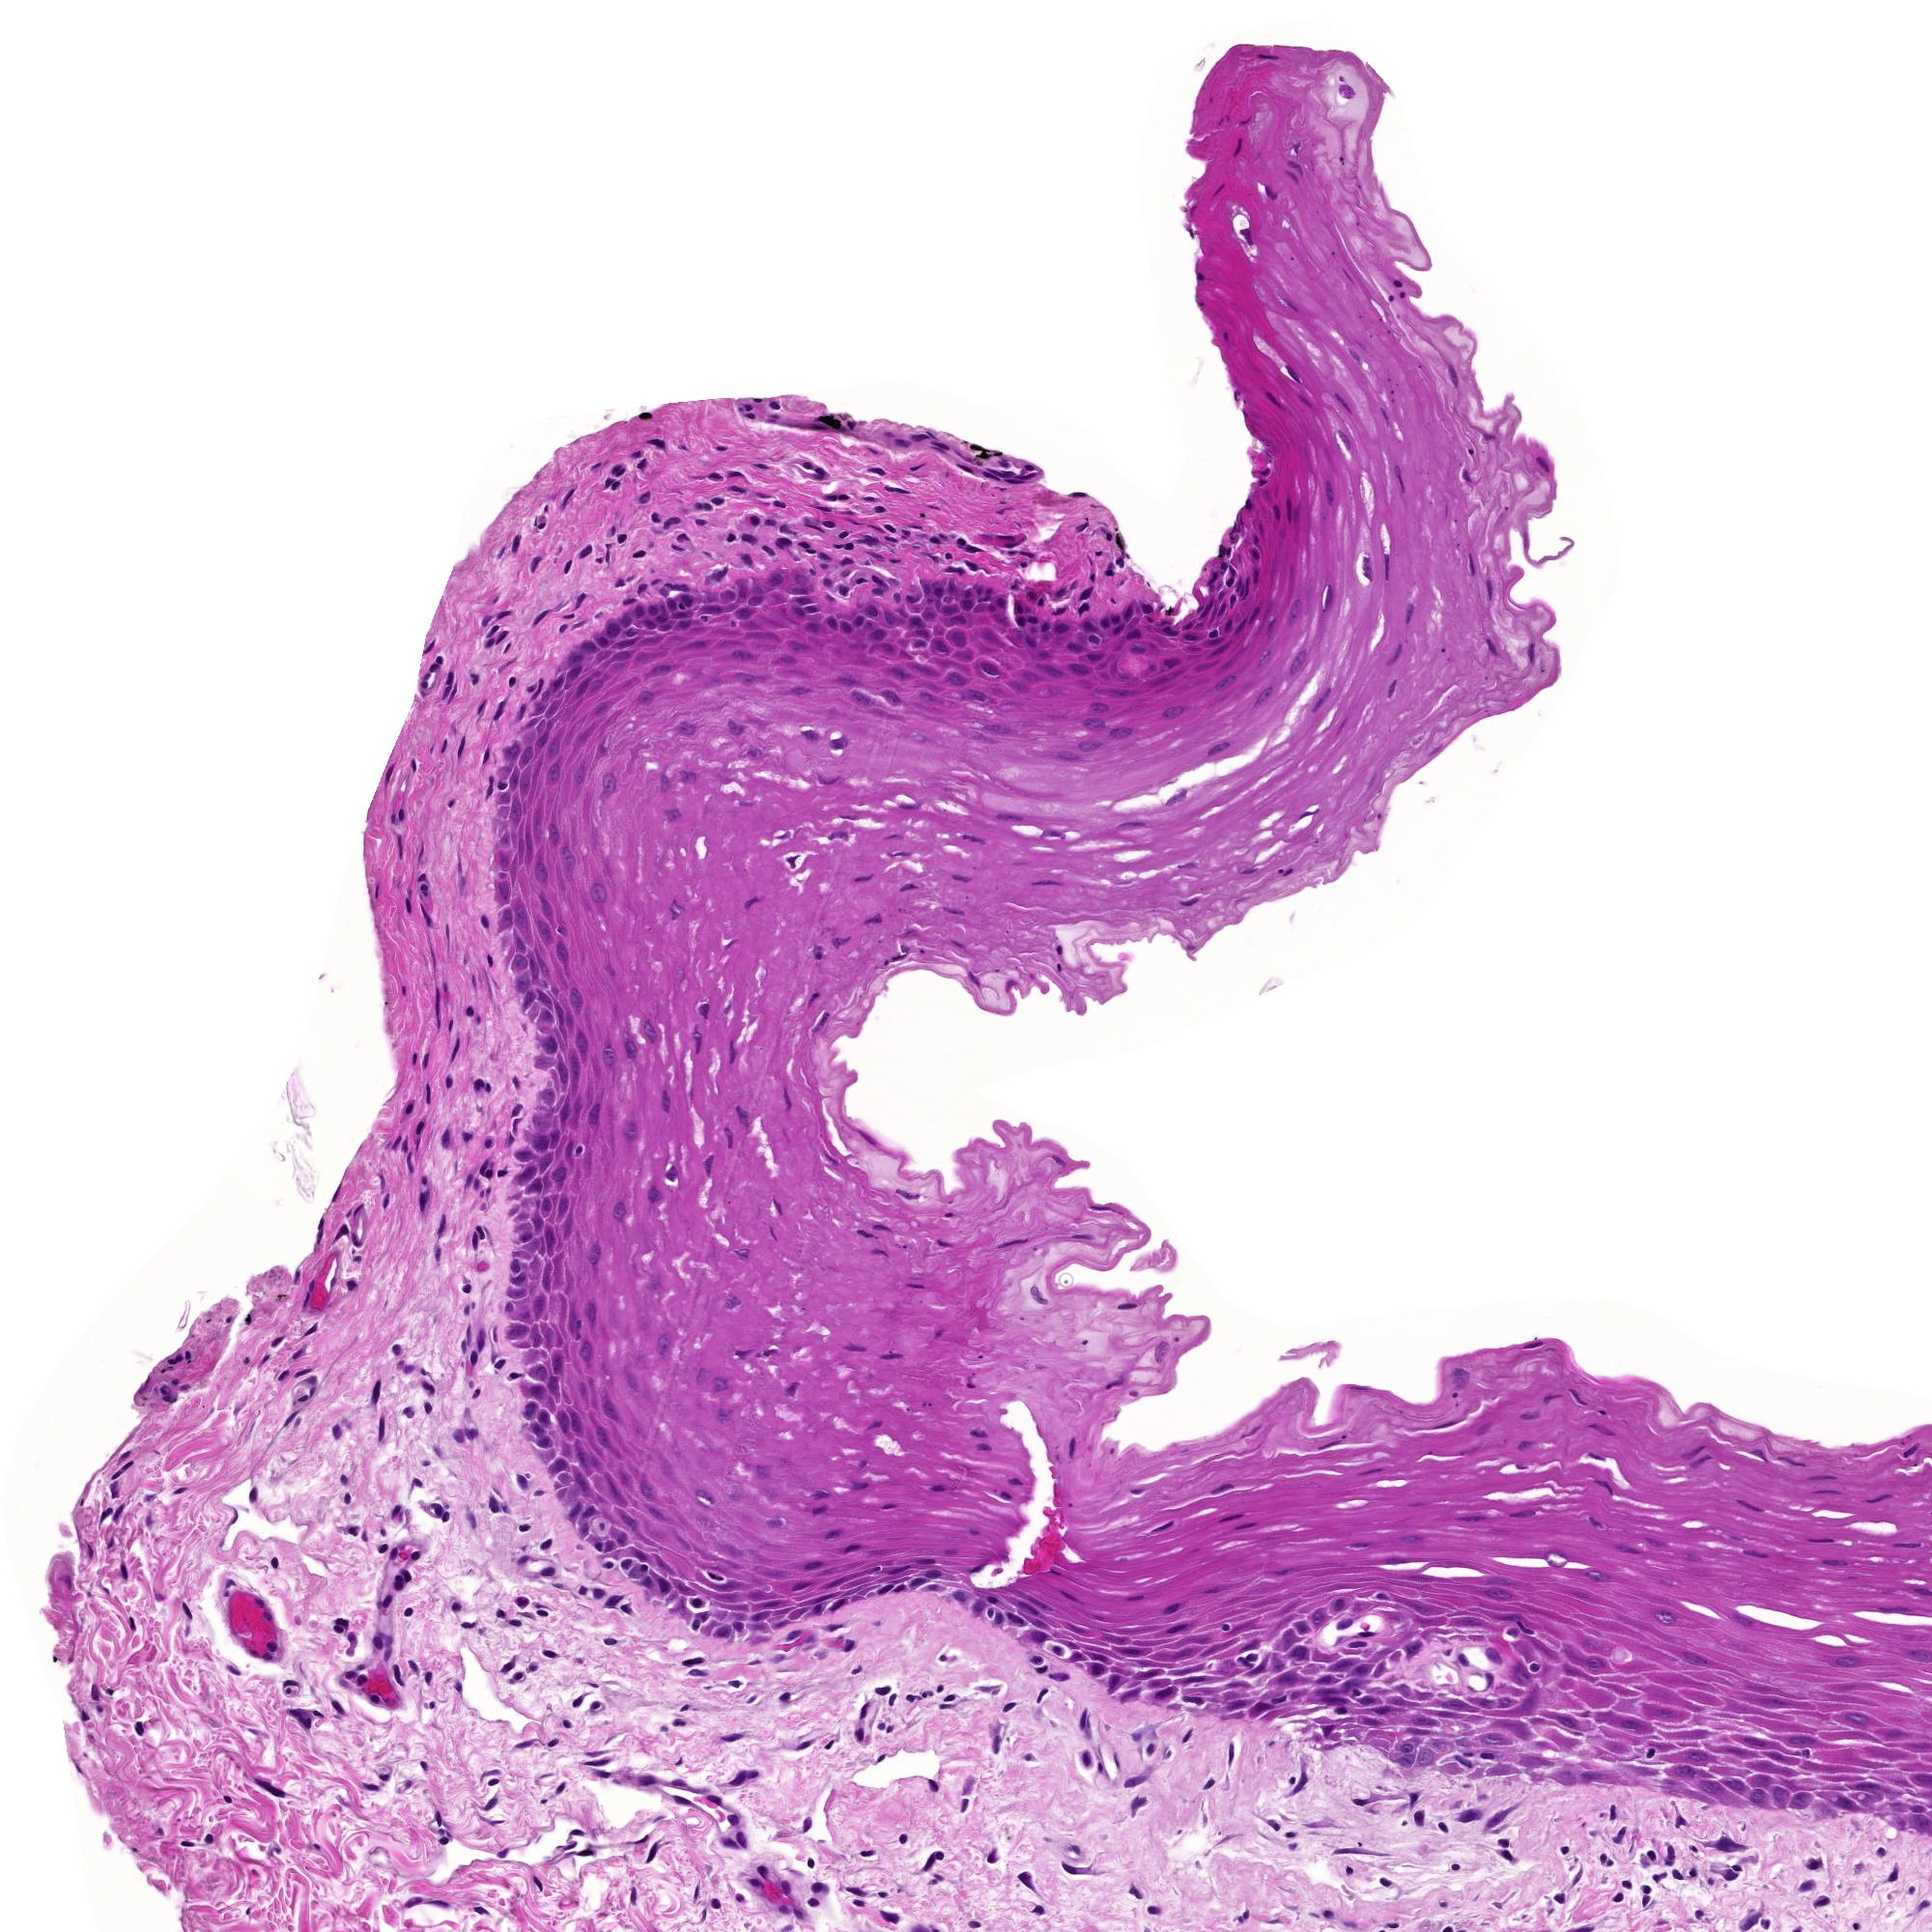epithelial: (893, 582, 927, 614), (653, 575, 685, 609), (883, 589, 916, 621), (605, 1522, 637, 1555), (1023, 1603, 1054, 1637), (359, 878, 391, 909), (446, 865, 478, 897), (127, 1373, 159, 1405), (920, 575, 952, 607), (658, 589, 690, 621), (540, 667, 571, 699), (941, 621, 973, 653), (862, 617, 893, 649), (497, 736, 529, 768), (856, 594, 888, 626), (649, 596, 681, 628), (582, 626, 614, 658), (487, 874, 518, 906), (648, 607, 679, 639), (646, 653, 678, 685), (725, 575, 757, 607), (669, 575, 701, 607), (501, 794, 533, 826), (904, 626, 936, 658), (529, 911, 561, 943), (663, 607, 695, 639), (501, 901, 533, 932), (784, 568, 816, 600), (531, 890, 563, 922), (911, 571, 943, 603), (885, 605, 916, 637), (872, 632, 904, 663), (741, 580, 773, 612), (685, 591, 717, 623), (607, 639, 639, 671), (736, 886, 768, 918), (552, 842, 584, 874), (908, 582, 939, 614), (635, 625, 667, 656), (568, 720, 600, 752), (518, 941, 550, 973), (736, 589, 768, 621), (603, 1194, 635, 1226), (550, 1407, 582, 1438), (527, 982, 559, 1014), (614, 1115, 646, 1146), (529, 1146, 561, 1178), (513, 1392, 545, 1424), (727, 1099, 759, 1131), (547, 1191, 579, 1223), (639, 1267, 671, 1299), (522, 1118, 554, 1150), (561, 1408, 593, 1440), (717, 1037, 748, 1069), (692, 1148, 724, 1180), (775, 1373, 807, 1405), (559, 1051, 591, 1083), (538, 1353, 570, 1385), (502, 1267, 534, 1299), (922, 1316, 954, 1348), (568, 1300, 600, 1332), (550, 1200, 582, 1231), (552, 1210, 584, 1242), (529, 1035, 561, 1067), (527, 1230, 559, 1261), (527, 1164, 559, 1196), (648, 1569, 679, 1601), (571, 1495, 603, 1527), (784, 1569, 816, 1601), (688, 1479, 720, 1511), (593, 1529, 625, 1560), (901, 1548, 932, 1580), (846, 1454, 878, 1486), (793, 1594, 824, 1626), (1231, 218, 1263, 249), (1223, 131, 1254, 163), (1185, 260, 1217, 292), (1327, 386, 1359, 418), (1276, 290, 1307, 322), (1382, 458, 1414, 490), (1203, 173, 1235, 205), (1215, 39, 1247, 71), (984, 586, 1016, 617), (1198, 621, 1230, 653), (1131, 591, 1162, 623), (970, 579, 1001, 610), (993, 589, 1024, 621), (1214, 564, 1246, 596), (1122, 633, 1154, 665), (1077, 623, 1109, 655), (1233, 488, 1265, 520), (962, 679, 994, 711), (1010, 584, 1042, 616), (973, 621, 1005, 653), (1037, 655, 1069, 686), (1187, 621, 1219, 653), (1315, 582, 1346, 614), (1208, 550, 1240, 582), (1240, 559, 1272, 591), (1000, 571, 1031, 603), (1315, 479, 1346, 511), (1200, 573, 1231, 605), (993, 800, 1024, 832), (1205, 561, 1237, 593), (959, 962, 991, 994), (1284, 1637, 1316, 1668), (1272, 1663, 1304, 1695), (1334, 1670, 1366, 1702), (1000, 1603, 1031, 1635), (1219, 1688, 1251, 1720), (1023, 1621, 1054, 1652), (1079, 1642, 1111, 1674), (1355, 1706, 1387, 1737), (1263, 1683, 1295, 1714), (1286, 1610, 1318, 1642), (1387, 1677, 1419, 1709), (1171, 1658, 1203, 1690), (1277, 1672, 1309, 1704), (1277, 1647, 1309, 1679), (1295, 1679, 1327, 1711), (1191, 1626, 1223, 1658), (1212, 1502, 1244, 1534), (1223, 1670, 1254, 1702), (1346, 1529, 1378, 1560), (1401, 1714, 1433, 1746), (1364, 1652, 1396, 1684), (1062, 1614, 1093, 1645), (1345, 1663, 1376, 1695), (1451, 460, 1483, 492), (1562, 1380, 1594, 1412), (1518, 1329, 1550, 1361), (1513, 1399, 1545, 1431), (1585, 1412, 1617, 1444), (1587, 1399, 1619, 1431), (1783, 1723, 1815, 1755), (1741, 1780, 1773, 1812), (1442, 1688, 1474, 1720), (1647, 1697, 1679, 1729), (1578, 1506, 1610, 1537), (1842, 1704, 1874, 1736), (1582, 1560, 1614, 1592), (1891, 1529, 1923, 1560), (1789, 1730, 1821, 1762), (1734, 1490, 1766, 1522), (1477, 1723, 1509, 1755), (1681, 1725, 1713, 1757), (1488, 1686, 1520, 1718), (1612, 1534, 1644, 1566), (745, 1589, 775, 1622), (1023, 621, 1053, 655), (1139, 1663, 1169, 1697), (150, 1378, 180, 1410), (596, 614, 628, 644), (669, 600, 699, 632), (573, 632, 605, 662), (589, 623, 621, 653), (559, 644, 591, 674), (642, 602, 674, 632), (932, 575, 964, 605), (816, 607, 847, 637), (729, 596, 759, 628), (832, 612, 862, 644), (699, 593, 729, 625), (798, 610, 828, 642), (906, 614, 936, 646), (936, 600, 968, 630), (885, 658, 916, 688), (939, 663, 971, 694), (635, 607, 665, 639), (844, 605, 874, 637), (559, 656, 591, 686), (832, 665, 863, 695), (874, 603, 906, 633), (727, 639, 757, 671), (545, 936, 577, 966), (593, 770, 625, 800), (490, 902, 522, 932), (538, 817, 570, 847), (794, 593, 826, 623), (911, 655, 941, 686), (660, 893, 690, 925), (538, 755, 570, 786), (506, 738, 536, 770), (614, 616, 644, 648), (931, 625, 962, 655), (568, 671, 598, 702), (938, 568, 968, 600), (586, 692, 616, 724), (846, 681, 876, 713), (913, 600, 943, 632), (582, 876, 612, 908), (782, 632, 814, 662), (713, 580, 743, 612), (931, 593, 962, 623), (770, 644, 801, 674), (501, 763, 531, 794), (504, 929, 534, 961), (784, 676, 816, 706), (862, 580, 892, 612), (855, 605, 886, 635), (527, 676, 559, 706), (646, 584, 676, 616), (488, 844, 518, 876), (506, 918, 536, 950), (878, 594, 908, 626), (824, 925, 855, 957), (529, 692, 561, 722), (925, 598, 957, 628), (587, 732, 617, 764), (538, 685, 568, 717), (927, 582, 959, 612), (777, 637, 807, 669), (786, 579, 817, 609), (508, 768, 540, 798), (869, 625, 899, 656), (538, 731, 568, 763), (550, 665, 580, 697), (554, 761, 586, 791), (697, 584, 729, 614), (846, 614, 878, 644), (488, 780, 518, 812), (911, 623, 943, 653), (814, 764, 844, 796), (527, 1127, 559, 1157), (534, 1030, 566, 1060), (502, 1315, 533, 1346), (520, 1171, 552, 1201), (541, 1348, 573, 1378), (520, 1376, 552, 1407), (639, 1178, 669, 1210), (649, 1086, 681, 1116), (524, 1288, 554, 1320), (594, 1394, 626, 1424), (579, 1099, 610, 1129), (614, 1033, 646, 1063), (502, 1256, 533, 1288), (566, 1026, 596, 1058), (575, 1297, 607, 1327), (561, 984, 593, 1014), (648, 1329, 679, 1359), (548, 1097, 580, 1127), (531, 1000, 561, 1031), (529, 1401, 559, 1433), (538, 1122, 570, 1152), (510, 1221, 541, 1251), (547, 1056, 579, 1086), (522, 1207, 552, 1238), (704, 1369, 736, 1399), (533, 1079, 563, 1111), (556, 1134, 587, 1164), (688, 994, 720, 1024), (548, 1001, 579, 1033), (518, 1152, 548, 1184), (717, 1286, 748, 1316), (520, 1323, 552, 1353), (901, 1269, 931, 1300), (520, 1224, 552, 1254), (531, 1265, 563, 1295), (727, 1238, 759, 1269), (860, 1408, 890, 1440), (771, 1085, 803, 1115), (527, 1178, 557, 1210), (876, 1339, 906, 1371), (617, 1366, 648, 1398), (713, 1122, 745, 1152), (497, 1284, 527, 1316), (533, 1320, 563, 1352), (513, 1318, 545, 1348), (817, 1143, 847, 1175), (727, 1338, 757, 1369), (529, 1387, 559, 1419), (524, 1108, 556, 1138), (538, 1410, 570, 1440), (543, 994, 573, 1026), (522, 1139, 554, 1169), (568, 1373, 598, 1405), (881, 1555, 911, 1587), (835, 1532, 867, 1562), (922, 1472, 952, 1504), (911, 1546, 941, 1578), (568, 1442, 600, 1472), (816, 1518, 847, 1548), (916, 1553, 948, 1583), (625, 1539, 656, 1569), (614, 1506, 644, 1537), (626, 1555, 656, 1587), (747, 1454, 777, 1486), (713, 1569, 743, 1601), (757, 1589, 789, 1619), (630, 1472, 660, 1504), (559, 1495, 589, 1527), (909, 1562, 939, 1594), (610, 1461, 640, 1493), (697, 1560, 729, 1591), (646, 1548, 678, 1578), (639, 1497, 671, 1527), (741, 1580, 771, 1612), (722, 1610, 754, 1640), (883, 1566, 915, 1596), (810, 1582, 840, 1614), (715, 1536, 747, 1566), (607, 1513, 637, 1545), (1277, 356, 1307, 387), (1256, 382, 1286, 414), (1254, 177, 1286, 207), (1251, 41, 1283, 71), (1247, 458, 1277, 490), (1332, 74, 1362, 106), (1254, 428, 1284, 460), (1290, 384, 1320, 416), (1230, 106, 1260, 138), (1369, 398, 1399, 430), (1154, 614, 1184, 646), (1120, 617, 1150, 649), (1072, 610, 1104, 640), (1097, 607, 1129, 637), (1007, 603, 1037, 635), (985, 596, 1016, 628), (1060, 632, 1090, 663), (1086, 612, 1118, 642), (1154, 648, 1185, 678), (1212, 610, 1244, 640), (1023, 584, 1054, 614), (1228, 573, 1258, 605), (1063, 655, 1095, 685), (1077, 640, 1109, 671), (1111, 598, 1143, 628), (1175, 621, 1205, 653), (1196, 564, 1228, 594), (1014, 626, 1046, 656), (1192, 593, 1223, 625), (1102, 612, 1132, 644), (1207, 540, 1238, 570), (1017, 603, 1047, 635), (1106, 676, 1136, 708), (1261, 495, 1292, 527), (1274, 492, 1306, 522), (1016, 616, 1046, 648), (982, 713, 1014, 743), (1173, 610, 1203, 642), (1221, 513, 1253, 543), (1203, 732, 1235, 763), (1116, 607, 1146, 639), (1233, 855, 1263, 886), (1217, 573, 1247, 605), (1205, 593, 1235, 625), (1063, 614, 1095, 644), (1240, 596, 1270, 628), (1283, 648, 1315, 678), (1208, 667, 1240, 697), (1352, 552, 1382, 584), (1083, 692, 1115, 722), (1251, 678, 1281, 709), (1072, 731, 1104, 761), (1215, 543, 1246, 575), (1254, 610, 1286, 640), (1306, 683, 1338, 713), (1217, 584, 1247, 616), (989, 607, 1021, 637), (1376, 672, 1408, 702), (1164, 621, 1196, 651), (1014, 660, 1044, 692), (1003, 669, 1033, 701), (1240, 525, 1272, 556), (1051, 740, 1081, 771), (1226, 538, 1258, 568), (1279, 596, 1309, 628), (1279, 499, 1309, 531), (1382, 637, 1412, 669), (1371, 547, 1401, 579), (980, 605, 1010, 637), (1362, 552, 1394, 582), (1070, 644, 1100, 676), (1046, 655, 1077, 685), (1131, 616, 1162, 646), (1109, 617, 1139, 649), (1159, 655, 1191, 685), (1138, 653, 1168, 685), (1177, 633, 1208, 663), (1212, 649, 1244, 679), (962, 571, 993, 603), (1343, 1373, 1373, 1405), (1023, 1279, 1053, 1311), (1311, 1674, 1341, 1706), (1246, 1691, 1276, 1723), (1346, 1654, 1378, 1684), (1115, 1637, 1146, 1667), (1368, 1695, 1399, 1725), (1327, 1691, 1357, 1723), (1132, 1658, 1162, 1690), (1391, 1734, 1421, 1766), (1327, 1649, 1359, 1679), (1161, 1614, 1192, 1644), (1099, 1665, 1129, 1697), (1407, 1706, 1437, 1737), (1150, 1677, 1180, 1709), (1198, 1575, 1230, 1605), (1309, 1663, 1341, 1693), (1231, 1642, 1263, 1672), (1207, 1472, 1238, 1502), (1322, 1589, 1353, 1619), (1405, 1592, 1437, 1622), (1053, 1580, 1085, 1610), (1272, 1622, 1304, 1652), (1254, 1688, 1286, 1718), (968, 1589, 1000, 1619), (1223, 1504, 1254, 1534), (1168, 1638, 1200, 1668), (1398, 1523, 1428, 1555), (1148, 1511, 1180, 1541), (1120, 1582, 1150, 1614), (1269, 1555, 1299, 1587), (1401, 1562, 1433, 1592), (1260, 1649, 1292, 1679), (1391, 1744, 1421, 1776), (1339, 1677, 1371, 1707), (1332, 1656, 1362, 1688), (1231, 1509, 1263, 1539), (1265, 1656, 1295, 1688), (961, 1552, 993, 1582), (1039, 1557, 1070, 1587), (1350, 1693, 1380, 1725), (1221, 1612, 1253, 1642), (1366, 1580, 1398, 1610), (1026, 1591, 1058, 1621), (1401, 1743, 1433, 1773), (1325, 1667, 1357, 1697), (1184, 1622, 1214, 1654), (1171, 1647, 1201, 1679), (1341, 1642, 1371, 1674), (1527, 448, 1559, 478), (1438, 359, 1468, 391), (1476, 632, 1507, 662), (1456, 548, 1486, 580), (1509, 524, 1541, 554), (1444, 1359, 1474, 1391), (1467, 1412, 1499, 1442), (1550, 1380, 1582, 1410), (1672, 1755, 1702, 1787), (1578, 1647, 1608, 1679), (1514, 1686, 1545, 1718), (1683, 1739, 1713, 1771), (1697, 1771, 1727, 1803), (1615, 1707, 1645, 1739), (1454, 1605, 1484, 1637), (1550, 1706, 1582, 1736), (1507, 1612, 1537, 1644), (1507, 1499, 1539, 1529), (1591, 1468, 1621, 1500), (1829, 1645, 1861, 1675), (1651, 1599, 1681, 1631), (1497, 1601, 1527, 1633), (1506, 1656, 1536, 1688), (1819, 1546, 1849, 1578), (1573, 1760, 1605, 1790), (1764, 1778, 1794, 1810), (1479, 1578, 1511, 1608), (1681, 1442, 1713, 1472), (1468, 1686, 1499, 1718), (1447, 1744, 1479, 1775), (1739, 1725, 1769, 1757), (1506, 1714, 1536, 1746), (1773, 1782, 1805, 1812), (1727, 1605, 1759, 1635), (1479, 1640, 1509, 1672), (1516, 1746, 1548, 1776), (1739, 1537, 1769, 1569), (1856, 1778, 1888, 1808), (1557, 1651, 1587, 1683), (1898, 1637, 1928, 1668), (1900, 1794, 1930, 1826), (1566, 1580, 1598, 1610), (1882, 1792, 1913, 1824), (1511, 1642, 1541, 1674), (1486, 1571, 1518, 1601), (1529, 1633, 1560, 1663), (994, 600, 1028, 628), (292, 1284, 322, 1315), (51, 1564, 81, 1594), (456, 1504, 487, 1534), (671, 586, 701, 616), (639, 594, 669, 625), (901, 607, 931, 637), (761, 564, 791, 594), (623, 596, 653, 626), (787, 596, 817, 626), (671, 713, 701, 743), (685, 628, 715, 658), (610, 605, 640, 635), (720, 713, 750, 743), (612, 626, 642, 656), (878, 681, 908, 711), (672, 761, 702, 791), (525, 855, 556, 885), (791, 586, 821, 616), (564, 759, 594, 789), (511, 828, 541, 858), (649, 766, 679, 796), (527, 724, 557, 754), (738, 738, 768, 768), (568, 637, 598, 667), (939, 897, 970, 927), (893, 793, 924, 823), (504, 943, 534, 973), (579, 669, 609, 699), (580, 1238, 610, 1269), (534, 1223, 564, 1253), (545, 1159, 575, 1189), (511, 1159, 541, 1189), (571, 1336, 602, 1366), (522, 1361, 552, 1391), (510, 1139, 540, 1169), (561, 1309, 591, 1339), (531, 1189, 561, 1219), (538, 1369, 568, 1399), (635, 1016, 665, 1046), (683, 1026, 713, 1056), (708, 1399, 738, 1430), (529, 1419, 559, 1449), (593, 1039, 623, 1069), (513, 985, 543, 1016), (656, 1159, 686, 1189), (522, 1414, 552, 1444), (508, 970, 538, 1000), (587, 1421, 617, 1451), (531, 1373, 561, 1403), (752, 1338, 782, 1368), (502, 1277, 533, 1307), (559, 1093, 589, 1123), (540, 1251, 570, 1281), (686, 1359, 717, 1389), (566, 1467, 596, 1497), (844, 1470, 874, 1500), (796, 1550, 826, 1580), (646, 1559, 676, 1589), (743, 1601, 773, 1631), (803, 1589, 833, 1619), (600, 1476, 630, 1506), (805, 1479, 835, 1509), (632, 1568, 662, 1598), (803, 1495, 833, 1525), (667, 1573, 697, 1603), (819, 1568, 849, 1598), (761, 1507, 791, 1537), (936, 1536, 966, 1566), (874, 1490, 904, 1520), (870, 1557, 901, 1587), (860, 1553, 890, 1583), (761, 1559, 791, 1589), (575, 1447, 605, 1477), (890, 1552, 920, 1582), (1279, 152, 1309, 182), (1210, 320, 1240, 350), (1237, 407, 1267, 437), (1330, 425, 1361, 455), (1178, 195, 1208, 225), (1223, 377, 1253, 407), (1003, 594, 1033, 625), (1046, 612, 1076, 642), (1030, 612, 1060, 642), (973, 653, 1003, 683), (1104, 717, 1134, 747), (1240, 540, 1270, 570), (1106, 603, 1136, 633), (962, 582, 993, 612), (1394, 598, 1424, 628), (1205, 635, 1235, 665), (1231, 607, 1261, 637), (1224, 614, 1254, 644), (1173, 888, 1203, 918), (971, 591, 1001, 621), (1146, 665, 1177, 695), (1079, 708, 1109, 738), (1003, 623, 1033, 653), (1039, 617, 1069, 648), (1134, 603, 1164, 633), (1028, 639, 1058, 669), (977, 635, 1007, 665), (1054, 623, 1085, 653), (1143, 614, 1173, 644), (1037, 817, 1067, 847), (1069, 628, 1099, 658), (1109, 662, 1139, 692), (1201, 586, 1231, 616), (1145, 1334, 1175, 1364), (1318, 1686, 1348, 1716), (1157, 1592, 1187, 1622), (1010, 1591, 1040, 1621), (1350, 1684, 1380, 1714), (977, 1583, 1007, 1614), (1313, 1714, 1343, 1744), (1182, 1665, 1212, 1695), (1398, 1633, 1428, 1663), (1019, 1594, 1049, 1624), (1302, 1603, 1332, 1633), (1359, 1697, 1389, 1727), (1380, 1688, 1410, 1718), (1212, 1612, 1242, 1642), (1380, 1545, 1410, 1575), (1474, 421, 1504, 451), (1474, 573, 1504, 603), (1516, 637, 1546, 667), (1534, 1382, 1564, 1412), (1897, 1422, 1927, 1453), (1829, 1787, 1859, 1817), (1852, 1771, 1882, 1801), (1720, 1769, 1750, 1799), (1783, 1783, 1813, 1813), (1759, 1686, 1789, 1716), (1679, 1644, 1709, 1674), (1879, 1718, 1909, 1748), (1458, 1504, 1488, 1534), (1746, 1766, 1776, 1796), (1552, 1760, 1582, 1790), (1808, 1525, 1838, 1555), (1640, 1527, 1670, 1557), (1865, 1483, 1895, 1513), (1895, 1437, 1925, 1467), (1762, 1741, 1792, 1771), (1721, 1736, 1752, 1766), (1675, 1541, 1706, 1571), (1458, 1688, 1488, 1718), (1748, 1753, 1778, 1783), (1557, 1640, 1587, 1670), (915, 679, 943, 711), (543, 1451, 575, 1479), (1178, 1683, 1207, 1714), (925, 632, 955, 660), (632, 681, 660, 711), (658, 800, 688, 828), (732, 663, 763, 692), (517, 1297, 545, 1327), (780, 1598, 810, 1626), (1157, 697, 1185, 727), (1235, 568, 1265, 596), (1044, 1146, 1074, 1175), (1240, 1651, 1270, 1679), (1808, 1463, 1836, 1493)
fibroblast and endothelial: (421, 660, 455, 692), (88, 1502, 120, 1536), (686, 1782, 720, 1813), (433, 663, 465, 695), (384, 828, 416, 860), (403, 1111, 435, 1143), (412, 1371, 444, 1403), (446, 1122, 478, 1154), (295, 1315, 327, 1346), (340, 1224, 372, 1256), (267, 1359, 299, 1391), (287, 1357, 318, 1389), (393, 1352, 425, 1384), (320, 1415, 352, 1447), (384, 1129, 416, 1161), (409, 1164, 441, 1196), (341, 1242, 373, 1274), (460, 1376, 492, 1408), (395, 1131, 426, 1162), (313, 1215, 345, 1247), (152, 1368, 184, 1399), (142, 1364, 173, 1396), (412, 1661, 444, 1693), (108, 1555, 140, 1587), (177, 1826, 209, 1858), (345, 1663, 377, 1695), (258, 1546, 290, 1578), (425, 1886, 456, 1918), (379, 1537, 410, 1569), (359, 1683, 391, 1714), (237, 1477, 269, 1509), (368, 1760, 400, 1792), (244, 1587, 276, 1619), (290, 1707, 322, 1739), (331, 1483, 363, 1514), (313, 1695, 345, 1727), (426, 1812, 458, 1844), (218, 1654, 249, 1686), (103, 1491, 134, 1523), (416, 1688, 448, 1720), (372, 1635, 403, 1667), (350, 1670, 382, 1702), (96, 1527, 127, 1559), (39, 1642, 71, 1674), (382, 1550, 414, 1582), (904, 421, 936, 453), (759, 387, 791, 419), (642, 426, 674, 458), (925, 430, 957, 462), (862, 455, 893, 487), (743, 389, 775, 421), (623, 442, 655, 474), (916, 423, 948, 455), (701, 485, 732, 517), (499, 527, 531, 559), (731, 543, 763, 575), (642, 502, 674, 534), (936, 548, 968, 580), (807, 492, 839, 524), (754, 506, 786, 538), (623, 538, 655, 570), (518, 547, 550, 579), (823, 727, 855, 759), (564, 582, 596, 614), (844, 564, 876, 596), (932, 540, 964, 571), (814, 487, 846, 518), (862, 554, 893, 586), (876, 543, 908, 575), (860, 1214, 892, 1246), (863, 1235, 895, 1267), (571, 1835, 603, 1867), (676, 1645, 708, 1677), (665, 1783, 697, 1815), (747, 1854, 778, 1886), (847, 1695, 879, 1727), (566, 1686, 598, 1718), (506, 1465, 538, 1497), (886, 1681, 918, 1713), (844, 1718, 876, 1750), (874, 1900, 906, 1932), (508, 1511, 540, 1543), (791, 1808, 823, 1840), (626, 1824, 658, 1856), (899, 1681, 931, 1713), (561, 1833, 593, 1865), (770, 1870, 801, 1902), (479, 1490, 511, 1522), (508, 1729, 540, 1760), (814, 1729, 846, 1760), (740, 1867, 771, 1898), (778, 1619, 810, 1651), (508, 1545, 540, 1576), (593, 1548, 625, 1580), (550, 1707, 582, 1739), (529, 1539, 561, 1571), (821, 1601, 853, 1633), (867, 1877, 899, 1909), (890, 1571, 922, 1603), (800, 1859, 832, 1891), (667, 1592, 699, 1624), (869, 1888, 901, 1920), (570, 1819, 602, 1851), (982, 439, 1014, 471), (959, 433, 991, 465), (970, 449, 1001, 481), (1095, 520, 1127, 552), (1067, 593, 1099, 625), (1104, 543, 1136, 575), (993, 524, 1024, 556), (1076, 561, 1108, 593), (1106, 534, 1138, 566), (1086, 1191, 1118, 1223), (994, 968, 1026, 1000), (1284, 1767, 1316, 1799), (1138, 1893, 1169, 1925), (1398, 1782, 1430, 1813), (975, 1842, 1007, 1874), (1021, 1644, 1053, 1675), (1116, 1766, 1148, 1798), (1058, 1833, 1090, 1865), (1311, 1897, 1343, 1928), (1115, 1677, 1146, 1709), (1332, 1854, 1364, 1886), (1000, 1465, 1031, 1497), (1122, 1773, 1154, 1805), (1024, 1665, 1056, 1697), (1136, 1679, 1168, 1711), (1315, 1603, 1346, 1635), (1161, 1679, 1192, 1711), (1798, 1847, 1829, 1879), (1654, 1840, 1686, 1872), (1488, 1828, 1520, 1859), (1875, 1859, 1907, 1891), (1635, 1736, 1667, 1767), (1440, 1851, 1472, 1882), (1476, 1805, 1507, 1836), (1656, 1849, 1688, 1881), (1486, 1810, 1518, 1842), (1721, 1829, 1753, 1861), (265, 1279, 295, 1313), (824, 513, 855, 547), (492, 1353, 522, 1387), (977, 432, 1007, 465), (1023, 1633, 1053, 1667), (421, 648, 453, 678), (410, 874, 442, 904), (458, 663, 490, 694), (435, 731, 467, 761), (393, 888, 423, 920), (373, 757, 403, 789), (384, 800, 414, 832), (398, 750, 428, 782), (423, 676, 455, 706), (382, 816, 414, 846), (364, 1412, 396, 1442), (166, 1341, 196, 1373), (327, 1215, 359, 1246), (334, 1270, 366, 1300), (234, 1302, 265, 1332), (426, 1210, 456, 1242), (304, 1212, 334, 1244), (221, 1304, 253, 1334), (451, 1272, 481, 1304), (407, 1394, 439, 1424), (412, 1077, 444, 1108), (297, 1366, 327, 1398), (288, 1382, 318, 1414), (260, 1325, 292, 1355), (433, 1067, 465, 1097), (409, 1044, 439, 1076), (455, 996, 487, 1026), (382, 1332, 412, 1364), (281, 1339, 313, 1369), (274, 1403, 306, 1433), (391, 1396, 423, 1426), (165, 1368, 195, 1399), (400, 1042, 430, 1074), (297, 1269, 327, 1300), (453, 1332, 483, 1364), (446, 1419, 476, 1451), (370, 1185, 402, 1215), (421, 1238, 453, 1269), (453, 1284, 483, 1316), (456, 1320, 487, 1352), (464, 1159, 494, 1191), (414, 1391, 446, 1421), (395, 1148, 425, 1180), (398, 1123, 430, 1154), (387, 975, 419, 1005), (387, 1560, 418, 1592), (326, 1608, 356, 1640), (428, 1824, 460, 1854), (425, 1497, 456, 1527), (97, 1497, 127, 1529), (402, 1539, 432, 1571), (124, 1713, 154, 1744), (322, 1691, 352, 1723), (172, 1594, 202, 1626), (366, 1532, 398, 1562), (90, 1675, 120, 1707), (453, 1610, 485, 1640), (195, 1822, 225, 1854), (398, 1886, 428, 1918), (338, 1514, 368, 1546), (334, 1661, 366, 1691), (67, 1700, 99, 1730), (274, 1668, 304, 1700), (255, 1633, 287, 1663), (423, 1801, 453, 1833), (393, 1596, 425, 1626), (442, 1591, 472, 1622), (81, 1683, 111, 1714), (380, 1497, 412, 1527), (111, 1447, 142, 1479), (117, 1608, 149, 1638), (396, 1651, 428, 1681), (382, 1569, 414, 1599), (244, 1635, 276, 1665), (73, 1536, 104, 1566), (464, 1893, 494, 1925), (442, 1672, 474, 1702), (389, 1536, 421, 1566), (214, 1568, 244, 1599), (343, 1654, 375, 1684), (143, 1815, 175, 1845), (600, 460, 632, 490), (734, 391, 764, 423), (630, 400, 660, 432), (803, 458, 835, 488), (886, 426, 916, 458), (704, 460, 736, 490), (791, 449, 823, 479), (609, 453, 640, 483), (594, 453, 626, 483), (800, 410, 832, 441), (747, 449, 777, 481), (580, 449, 612, 479), (895, 423, 925, 455), (786, 409, 817, 439), (878, 423, 908, 455), (824, 481, 855, 513), (732, 522, 763, 554), (922, 524, 952, 556), (655, 506, 685, 538), (487, 600, 518, 630), (570, 536, 600, 568), (855, 524, 885, 556), (605, 522, 637, 552), (814, 508, 844, 540), (863, 568, 893, 600), (738, 510, 768, 541), (832, 524, 862, 556), (863, 494, 895, 524), (628, 481, 660, 511), (943, 527, 973, 559), (855, 563, 885, 594), (809, 541, 839, 573), (660, 571, 692, 602), (685, 508, 717, 538), (798, 536, 828, 568), (483, 607, 513, 639), (704, 559, 736, 589), (524, 510, 556, 540), (552, 550, 582, 582), (552, 479, 582, 511), (881, 941, 913, 971), (803, 938, 833, 970), (876, 522, 908, 552), (922, 541, 954, 571), (828, 559, 860, 589), (846, 863, 878, 893), (858, 487, 890, 517), (941, 554, 971, 586), (591, 540, 621, 571), (863, 541, 893, 573), (893, 870, 925, 901), (835, 550, 865, 582), (846, 545, 878, 575), (858, 904, 890, 934), (488, 625, 518, 656), (798, 520, 830, 550), (867, 527, 899, 557), (635, 570, 667, 600), (826, 531, 856, 563), (485, 1157, 517, 1187), (483, 1348, 513, 1380), (798, 980, 828, 1012), (807, 1003, 837, 1035), (494, 1125, 525, 1155), (853, 1122, 883, 1154), (499, 1131, 529, 1162), (497, 1157, 529, 1187), (731, 1760, 761, 1792), (867, 1675, 899, 1706), (718, 1803, 748, 1835), (607, 1589, 637, 1621), (632, 1766, 663, 1796), (533, 1638, 564, 1668), (577, 1688, 607, 1720), (561, 1815, 591, 1847), (803, 1872, 835, 1902), (717, 1721, 748, 1752), (839, 1875, 870, 1905), (722, 1766, 754, 1796), (932, 1683, 962, 1714), (683, 1605, 713, 1637), (789, 1729, 819, 1760), (901, 1568, 932, 1598), (851, 1838, 881, 1870), (872, 1573, 904, 1603), (833, 1629, 863, 1661), (888, 1822, 918, 1854), (522, 1867, 554, 1897), (506, 1587, 538, 1617), (794, 1847, 826, 1877), (823, 1589, 855, 1619), (663, 1707, 694, 1739), (699, 1888, 731, 1918), (720, 1667, 750, 1698), (545, 1771, 575, 1803), (876, 1683, 906, 1714), (506, 1651, 538, 1681), (513, 1654, 543, 1686), (778, 1895, 809, 1927), (842, 1884, 874, 1914), (617, 1881, 649, 1911), (584, 1746, 614, 1778), (909, 1679, 941, 1709), (787, 1897, 819, 1927), (720, 1882, 752, 1913), (554, 1829, 584, 1861), (916, 1852, 947, 1884), (865, 1741, 895, 1773), (488, 1836, 518, 1868), (920, 1863, 952, 1893), (685, 1594, 717, 1624), (681, 1875, 711, 1907), (570, 1513, 600, 1545), (840, 1654, 872, 1684), (669, 1693, 699, 1725), (927, 1642, 959, 1672), (616, 1555, 646, 1587), (690, 1897, 722, 1927), (490, 1603, 522, 1633), (513, 1594, 543, 1626), (968, 437, 998, 469), (975, 458, 1007, 488), (985, 453, 1016, 485), (1012, 453, 1044, 483), (993, 460, 1023, 492), (1382, 269, 1412, 301), (1104, 527, 1136, 557), (959, 533, 989, 564), (1097, 552, 1129, 582), (1154, 596, 1185, 626), (1044, 577, 1076, 607), (1063, 479, 1095, 510), (1090, 559, 1122, 589), (959, 550, 989, 582), (1010, 541, 1042, 571), (980, 522, 1012, 552), (1007, 529, 1037, 561), (1083, 538, 1115, 568), (1118, 593, 1150, 623), (1056, 593, 1088, 623), (1111, 1290, 1143, 1320), (998, 1226, 1028, 1258), (1099, 1368, 1131, 1398), (1054, 1854, 1086, 1884), (1008, 1863, 1040, 1893), (1122, 1787, 1152, 1819), (1345, 1787, 1376, 1817), (1401, 1790, 1433, 1821), (1120, 1875, 1150, 1907), (982, 1603, 1014, 1633), (1258, 1810, 1290, 1840), (1350, 1619, 1382, 1649), (1215, 1737, 1246, 1769), (1044, 1661, 1076, 1691), (1023, 1895, 1054, 1925), (1329, 1608, 1359, 1640), (993, 1474, 1023, 1506), (1077, 1748, 1108, 1780), (1330, 1835, 1361, 1867), (980, 1727, 1012, 1757), (1088, 1750, 1120, 1780), (962, 1594, 993, 1626), (1125, 1723, 1155, 1755), (1343, 1626, 1373, 1658), (1276, 1764, 1307, 1794), (1012, 1741, 1044, 1771), (1491, 1840, 1523, 1870), (1453, 1801, 1484, 1831), (1675, 1856, 1706, 1888), (1709, 1829, 1739, 1861), (1545, 1882, 1575, 1914), (1629, 1875, 1661, 1905), (1447, 1644, 1477, 1675), (1484, 1801, 1514, 1833), (1589, 1844, 1619, 1875), (1605, 1819, 1635, 1851), (1665, 1805, 1695, 1836), (1683, 1898, 1714, 1928), (1651, 1861, 1683, 1891), (1642, 1863, 1674, 1893), (1624, 1882, 1656, 1913), (1621, 1872, 1651, 1904), (1560, 1863, 1592, 1893), (1713, 1840, 1741, 1874), (446, 731, 476, 761), (407, 863, 437, 893), (414, 632, 444, 662), (433, 674, 464, 704), (416, 656, 446, 686), (435, 787, 465, 817), (361, 1376, 391, 1407), (409, 1182, 439, 1212), (458, 1341, 488, 1371), (393, 1093, 423, 1123), (430, 1122, 460, 1152), (462, 1221, 492, 1251), (462, 1069, 492, 1099), (458, 1166, 488, 1196), (157, 1346, 188, 1376), (441, 1033, 471, 1063), (423, 985, 453, 1016), (341, 1196, 372, 1226), (290, 1373, 320, 1403), (464, 1325, 494, 1355), (320, 1180, 350, 1210), (249, 1343, 280, 1373), (426, 978, 456, 1008), (281, 1260, 311, 1290), (152, 1352, 182, 1382), (260, 1776, 290, 1806), (287, 1700, 317, 1730), (251, 1771, 281, 1801), (382, 1656, 412, 1686), (363, 1626, 393, 1656), (356, 1771, 386, 1801), (165, 1476, 195, 1506), (212, 1783, 242, 1813), (99, 1476, 129, 1506), (402, 1467, 432, 1497), (336, 1622, 366, 1652), (329, 1463, 359, 1493), (297, 1698, 327, 1729), (103, 1458, 133, 1488), (409, 1750, 439, 1780), (253, 1601, 283, 1631), (386, 1766, 416, 1796), (278, 1697, 308, 1727), (301, 1831, 331, 1861), (251, 1642, 281, 1672), (816, 405, 846, 435), (720, 458, 750, 488), (759, 403, 789, 433), (901, 451, 931, 481), (706, 433, 736, 464), (805, 403, 835, 433), (768, 405, 798, 435), (686, 492, 717, 522), (791, 531, 821, 561), (768, 527, 798, 557), (833, 540, 863, 570), (483, 617, 513, 648), (764, 488, 794, 518), (770, 513, 800, 543), (525, 602, 556, 632), (667, 522, 697, 552), (824, 545, 855, 575), (796, 510, 826, 540), (752, 534, 782, 564), (605, 566, 635, 596), (886, 517, 916, 547), (794, 720, 824, 750), (849, 1219, 879, 1249), (499, 1361, 529, 1391), (501, 1095, 531, 1125), (892, 1180, 922, 1210), (927, 1228, 957, 1258), (839, 1332, 869, 1362), (637, 1836, 667, 1867), (916, 1844, 947, 1874), (596, 1587, 626, 1617), (699, 1783, 729, 1813), (722, 1826, 752, 1856), (589, 1759, 619, 1789), (492, 1651, 522, 1681), (584, 1578, 614, 1608), (502, 1661, 533, 1691), (527, 1596, 557, 1626), (918, 1769, 948, 1799), (533, 1557, 563, 1587), (770, 1683, 800, 1713), (663, 1767, 694, 1798), (538, 1729, 568, 1759), (594, 1626, 625, 1656), (584, 1529, 614, 1559), (708, 1617, 738, 1647), (925, 1674, 955, 1704), (722, 1812, 752, 1842), (817, 1612, 847, 1642), (918, 1571, 948, 1601), (681, 1656, 711, 1686), (479, 1766, 510, 1796), (770, 1893, 800, 1923), (738, 1757, 768, 1787), (943, 1580, 973, 1610), (991, 446, 1021, 476), (1070, 579, 1100, 609), (1044, 596, 1074, 626), (1067, 511, 1097, 541), (1044, 934, 1074, 964), (1270, 856, 1300, 886), (962, 1419, 993, 1449), (1067, 1221, 1097, 1251), (1056, 1422, 1086, 1453), (1403, 1801, 1433, 1831), (1072, 1743, 1102, 1773), (1194, 1769, 1224, 1799), (1026, 1677, 1056, 1707), (1369, 1867, 1399, 1897), (994, 1691, 1024, 1721), (1069, 1706, 1099, 1736), (1081, 1654, 1111, 1684), (1026, 1654, 1056, 1684), (1171, 1721, 1201, 1752), (1270, 1815, 1300, 1845), (1230, 1900, 1260, 1930), (1233, 1631, 1263, 1661), (973, 1674, 1003, 1704), (1663, 1861, 1693, 1891), (1635, 1840, 1665, 1870), (1718, 1854, 1748, 1884), (1806, 1886, 1836, 1916), (1790, 1870, 1821, 1900), (1867, 1836, 1897, 1867), (1739, 1900, 1769, 1930), (1709, 1859, 1739, 1890), (412, 904, 444, 932), (455, 1419, 487, 1447), (433, 1010, 465, 1039), (370, 1587, 402, 1615), (329, 1619, 361, 1647), (743, 506, 775, 534), (499, 1608, 531, 1637), (869, 1713, 901, 1741), (1003, 464, 1035, 492), (1635, 1870, 1667, 1898), (410, 669, 439, 699), (85, 1693, 113, 1723), (832, 409, 860, 439), (485, 695, 513, 725), (479, 1789, 508, 1819), (1598, 1798, 1628, 1826), (1472, 1739, 1500, 1769)
inflammatory: (695, 490, 727, 520)
lymphocyte: (874, 511, 906, 543), (1548, 1833, 1580, 1865), (1497, 1615, 1529, 1647), (1677, 1833, 1709, 1865), (134, 1499, 165, 1530), (828, 573, 858, 605), (497, 665, 527, 697), (506, 694, 536, 725), (777, 844, 807, 876), (499, 1067, 531, 1097), (681, 1587, 711, 1619), (800, 1882, 830, 1914), (610, 1548, 640, 1580), (485, 1598, 515, 1629), (529, 1529, 561, 1559), (1042, 1633, 1072, 1665), (1060, 1640, 1090, 1672), (1332, 1845, 1364, 1875), (1520, 1651, 1550, 1683), (1474, 1663, 1504, 1695), (715, 522, 745, 552), (881, 582, 911, 612), (812, 566, 842, 596), (487, 770, 517, 800), (626, 573, 656, 603), (614, 586, 644, 616), (479, 943, 510, 973), (499, 1106, 529, 1136), (568, 1575, 598, 1605), (1134, 1734, 1164, 1764), (1056, 1629, 1086, 1660), (1603, 1882, 1633, 1913), (1612, 1870, 1642, 1900), (423, 1072, 455, 1100)
